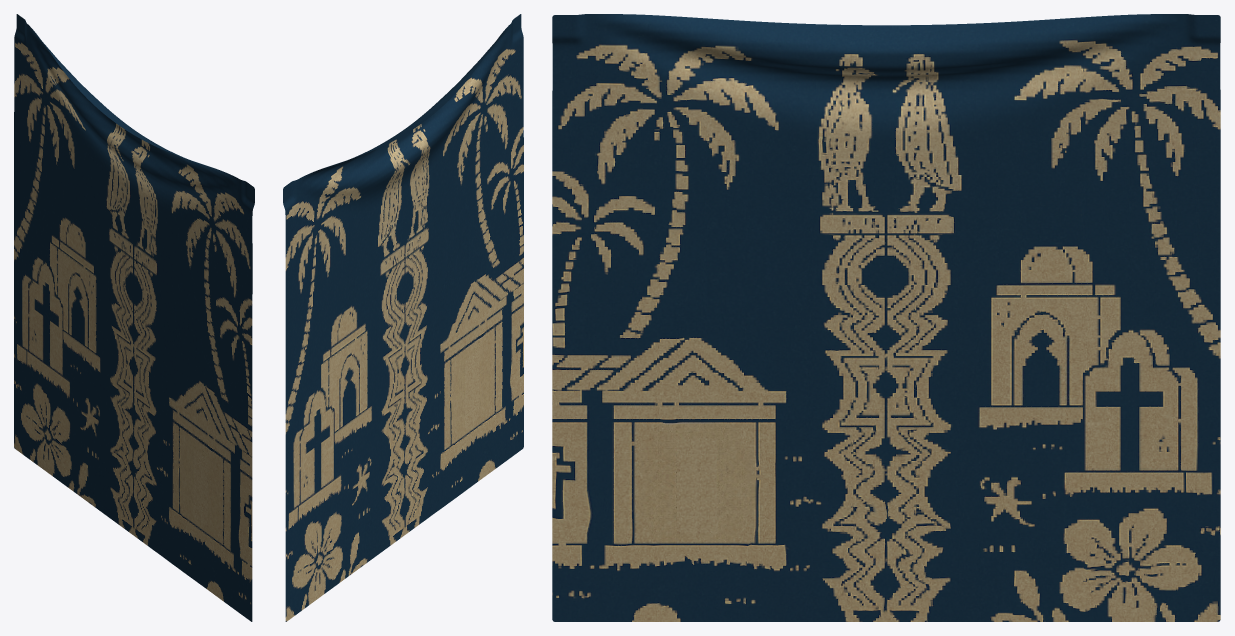
Rendered from lamba.glb.
3 renders of one model, left to right at view 1: azimuth 30°, elevation 25°; view 2: azimuth 150°, elevation 25°; view 3: azimuth 270°, elevation 25°, orthographic. The views are drawn at different scales.
Parts seen in each view (by area): view 1: simply_cloth; view 2: simply_cloth; view 3: simply_cloth.
Boxes of the visible parts, x1,y1,x2,y2 form: simply_cloth: [14, 14, 254, 621]; simply_cloth: [283, 14, 523, 621]; simply_cloth: [552, 14, 1220, 621].
Size of the model in its own units: 0.1381 by 2.82 by 2.8.
Materials: 1 (1 with a texture image).
